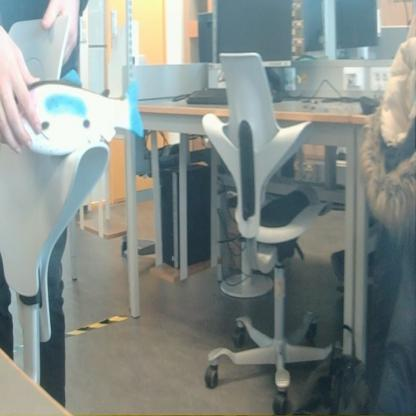rubberfish: (0, 64, 149, 160)
